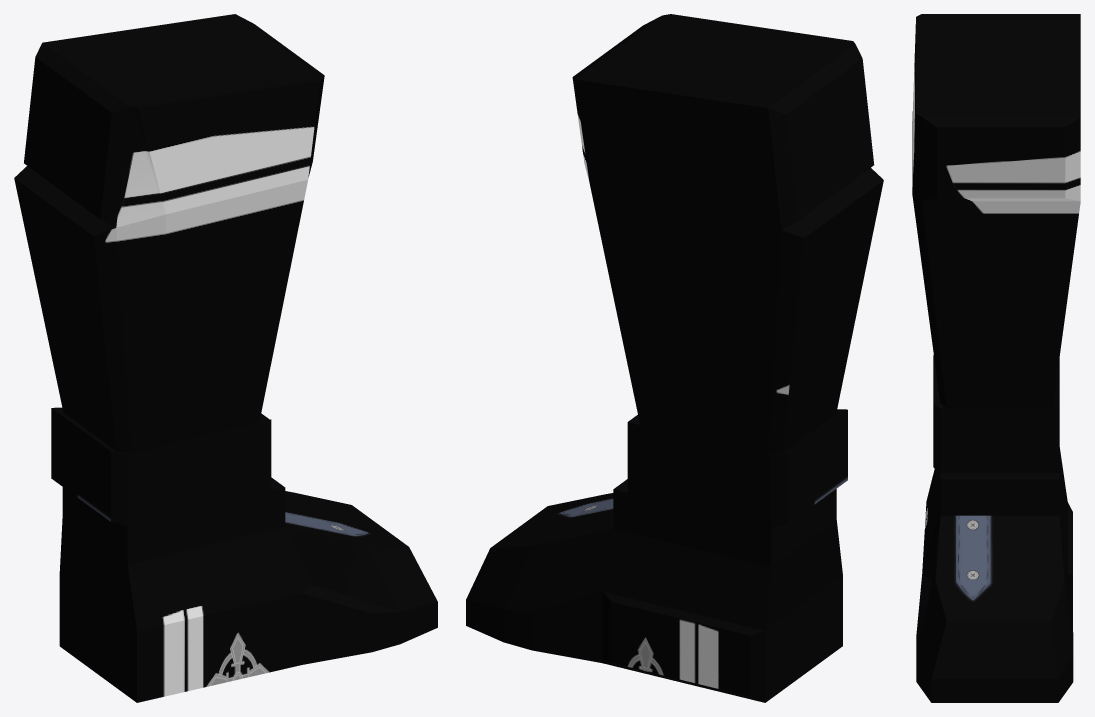
File: rightleg.obj
3 renders of one model, left to right at view 1: azimuth 30°, elevation 25°; view 2: azimuth 150°, elevation 25°; view 3: azimuth 270°, elevation 25°, orthographic. The views are drawn at different scales.
Parts seen in each view (by area): view 1: pCube8 pCube9; view 2: pCube8 pCube9; view 3: pCube8 pCube9.
Boxes of the visible parts, x1,y1,x2,y2 form: pCube8 pCube9: (14, 14, 437, 702); pCube8 pCube9: (466, 14, 883, 702); pCube8 pCube9: (912, 14, 1080, 702).
Bounding box in the file's own units: 0.9872 × 1.64 × 0.4571.
Materials: 1 (1 with a texture image).
